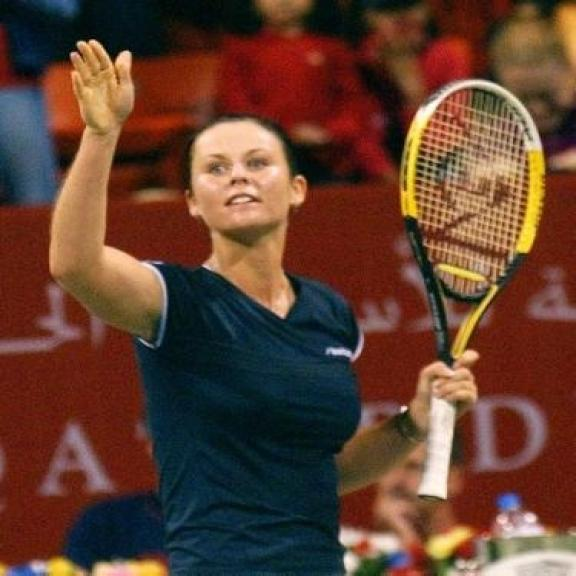face: (182, 118, 310, 242)
